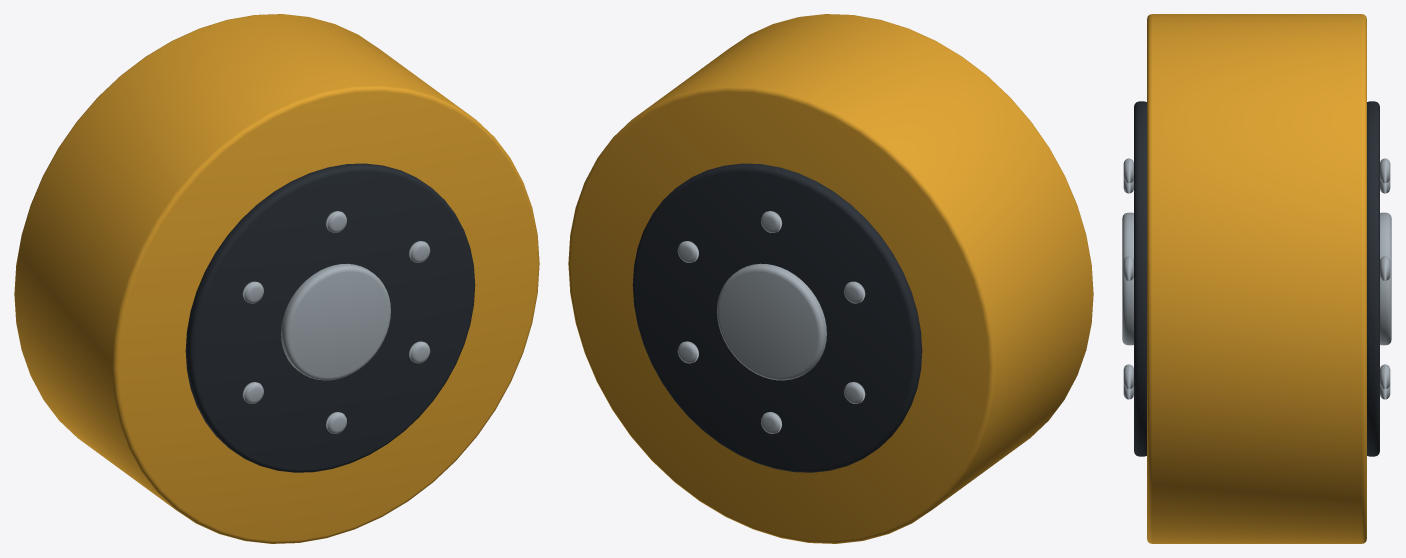
File: SM_AGV_Wheel_Drive.fbx
3 views of the same model, side by side, from view 1: azimuth 30°, elevation 25°; view 2: azimuth 150°, elevation 25°; view 3: azimuth 270°, elevation 25° (orthographic). The views are drawn at different scales.
Parts seen in each view (by area): view 1: SM_AGV_Wheel_Drive.002; view 2: SM_AGV_Wheel_Drive.002; view 3: SM_AGV_Wheel_Drive.002.
Part boxes in pixels (left/top/right/bottom): SM_AGV_Wheel_Drive.002: left=14, top=14, right=539, bottom=543; SM_AGV_Wheel_Drive.002: left=568, top=14, right=1093, bottom=543; SM_AGV_Wheel_Drive.002: left=1122, top=14, right=1391, bottom=543.
Size of the model in its own units: 0.41 by 0.208 by 0.41.
